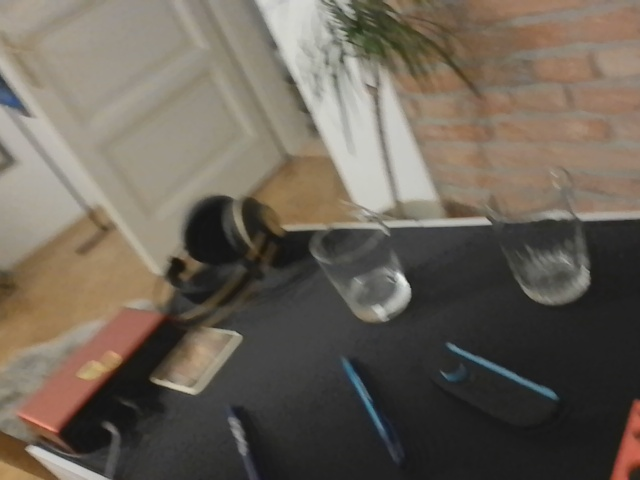glass: (478, 161, 596, 304), (308, 210, 415, 326)
joycon: (422, 337, 560, 426), (612, 397, 638, 480)
pen: (337, 351, 401, 462), (220, 399, 260, 478)
